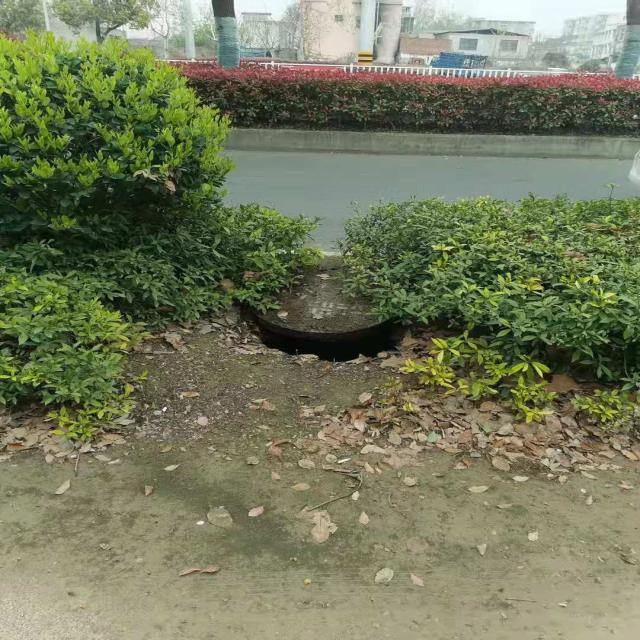Lose: (238, 272, 406, 365)
